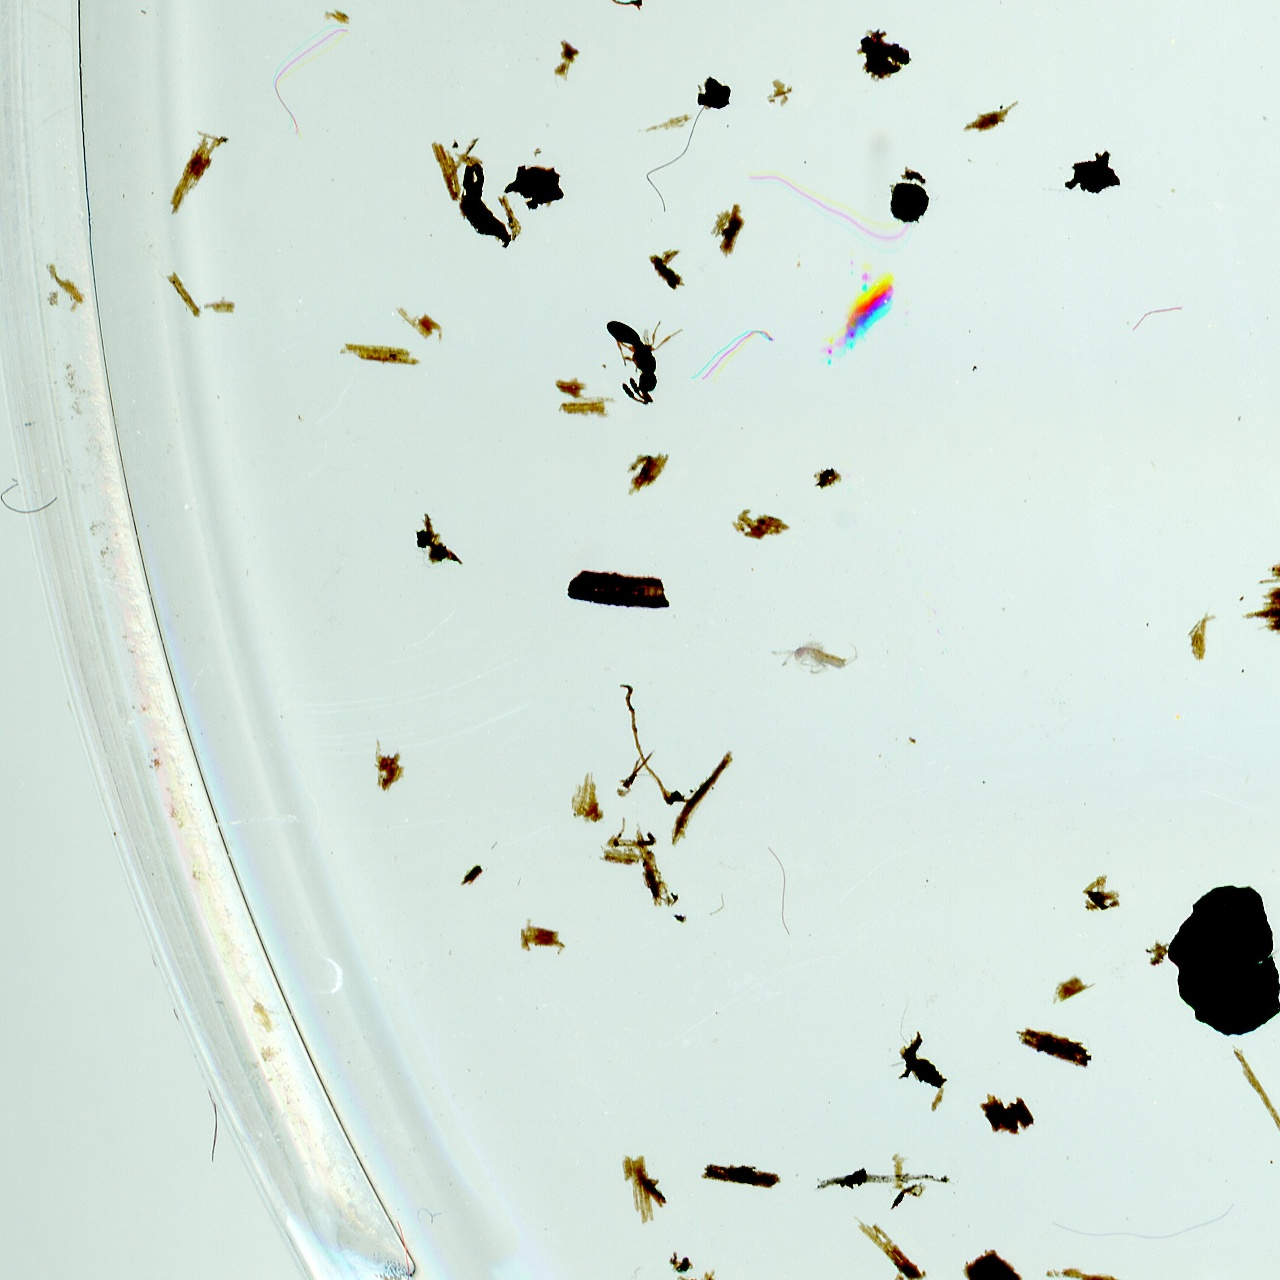arthropod: (802, 261, 918, 380), (594, 293, 708, 414), (767, 636, 864, 679)
